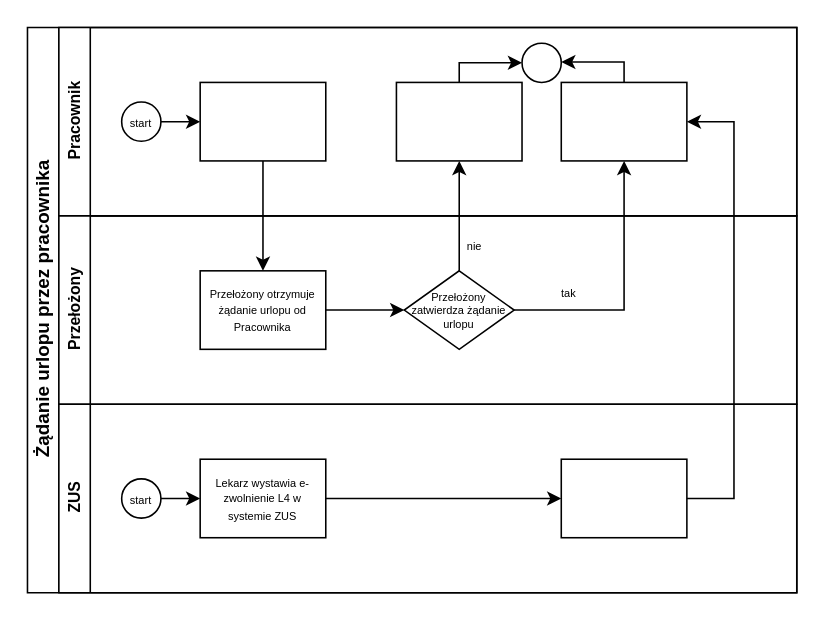
This 824x620 diagram has some shape labels left out. Each missing label, with the centre of its shape:
"koniec" belongs at point 540,62.
"Pracownik otrzymuje informację o zatwierdzeniu urlopu" belongs at point 623,121.
"Pracownik otrzymuje informację odmowną" belongs at point 458,121.
"Pracownik wysyła żądanie urlopu w systemie" belongs at point 262,121.
"ZUS wysyła informację o zwolnieniu do systemu" belongs at point 623,498.
